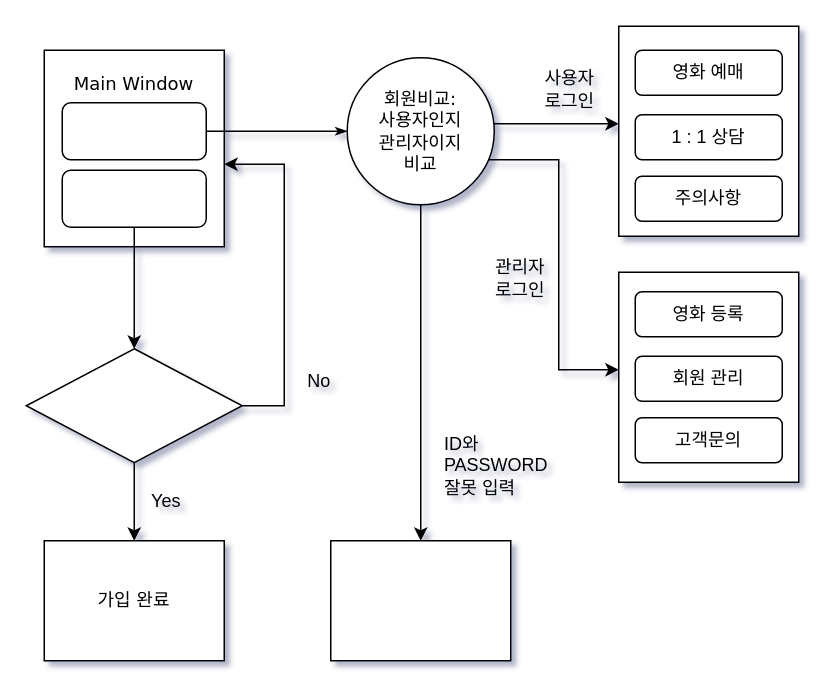
This 834x696 diagram has some shape labels left out. Each missing label, with the centre of its shape:
"로그인" goes at point 133,130.
"로그인 실패" goes at point 420,600.
"회원 가입" goes at point 133,405.
"회원가입" goes at point 133,198.
